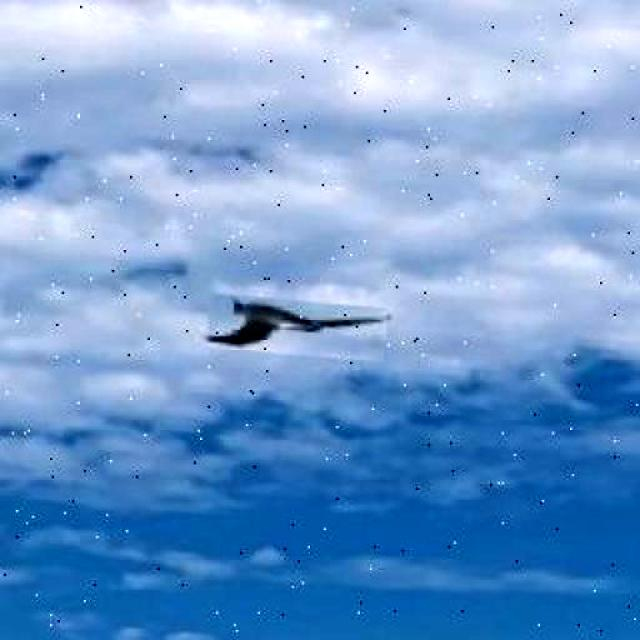airplane: (205, 292, 388, 362)
